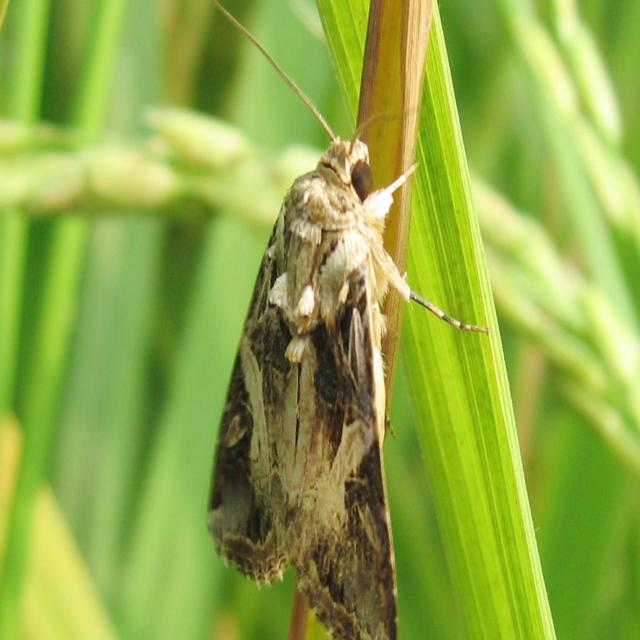armyworm: (194, 92, 436, 640)
